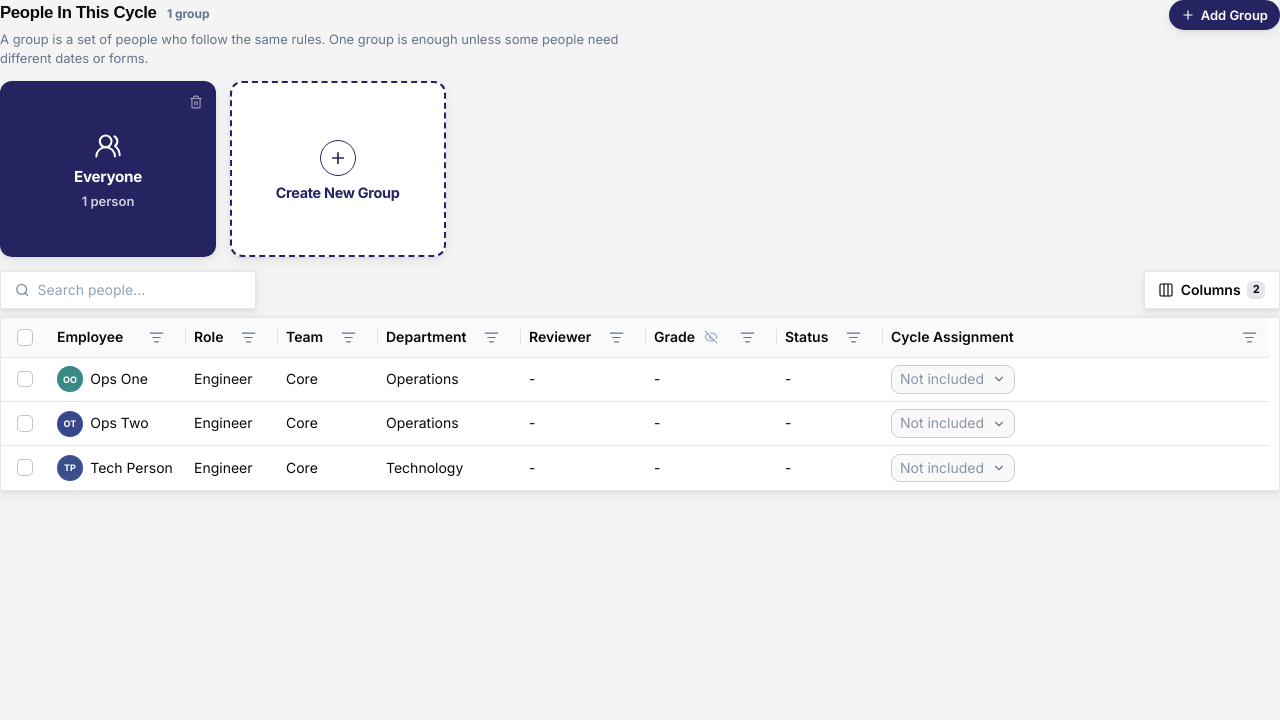
Test: CycleGroupsSection › bulk assigns the filtered people to a cycle group
Click the button named "Filter Department": coordinates (491, 337) [479, 325, 503, 349]
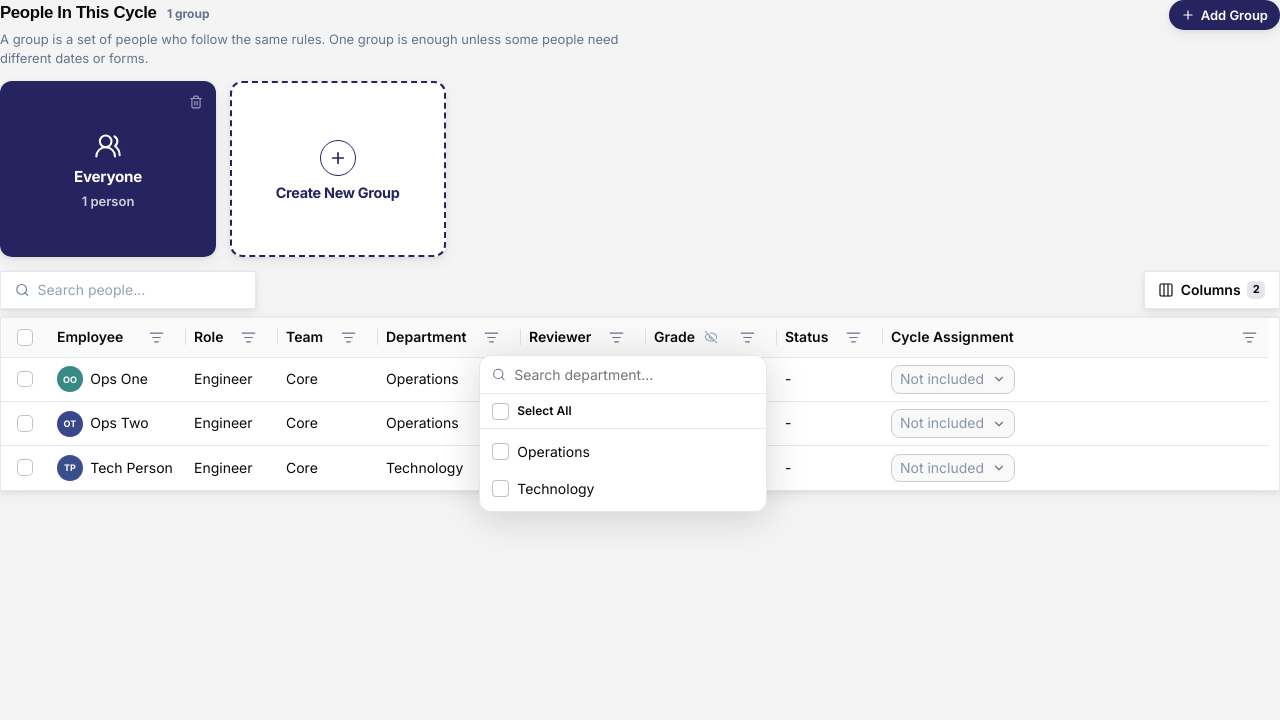
Click the option "Operations": coordinates (554, 452) [480, 433, 766, 470]
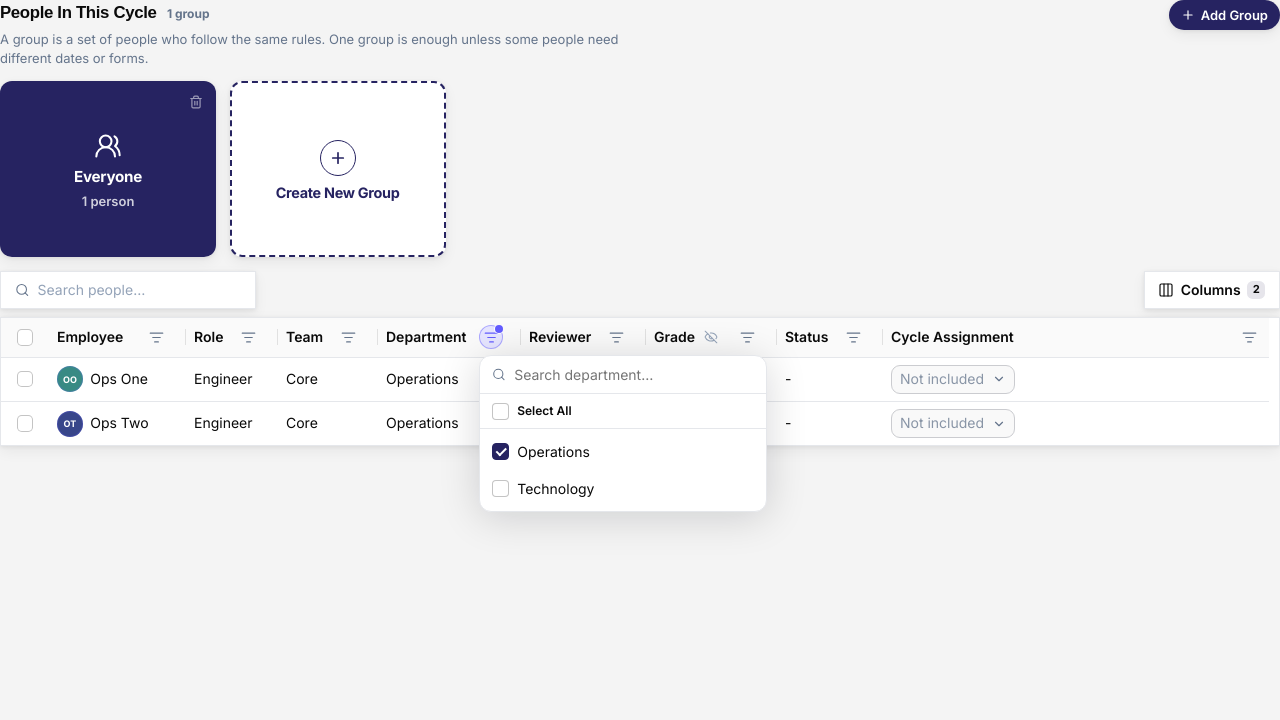
Click the checkbox named "Select all visible people": coordinates (25, 337) [17, 329, 33, 346]
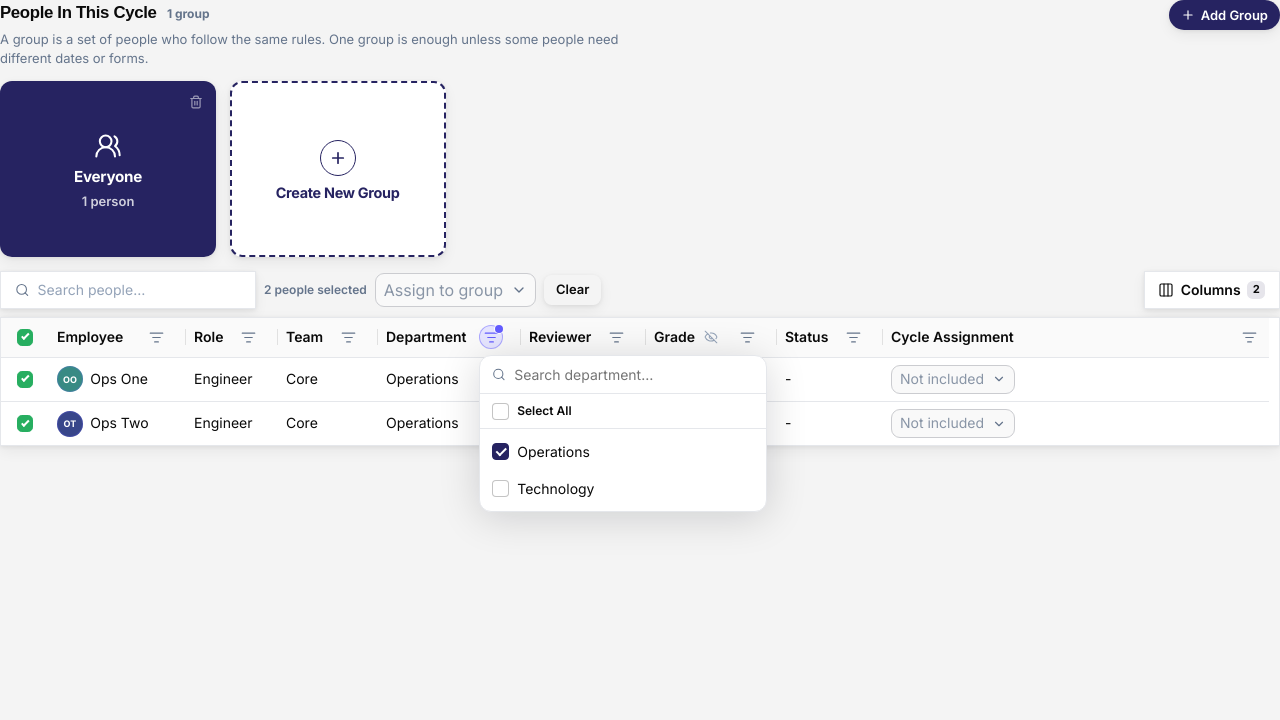
Now the text "2 people selected" is shown, box [264, 281, 367, 299]
Click the button with aria-label "Assign selected people to a cycle group": coordinates (455, 290) [375, 273, 536, 307]
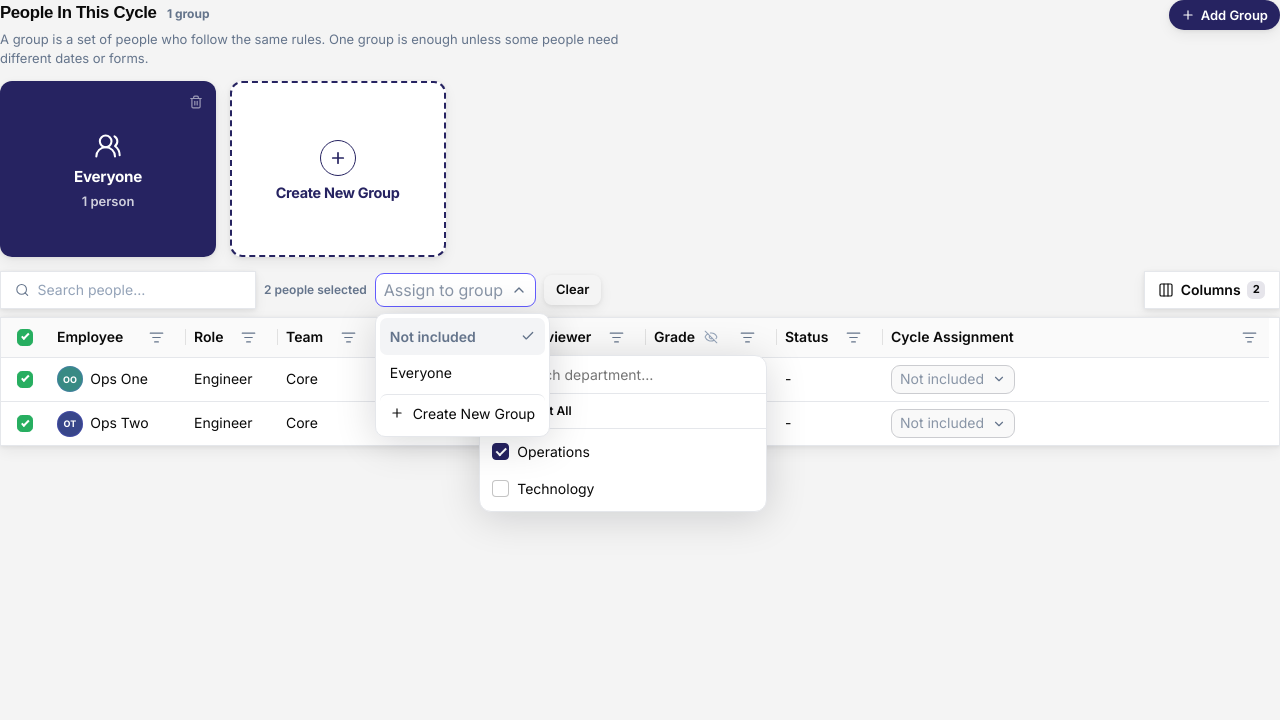
Click the option "Everyone": coordinates (462, 373) [380, 355, 545, 391]
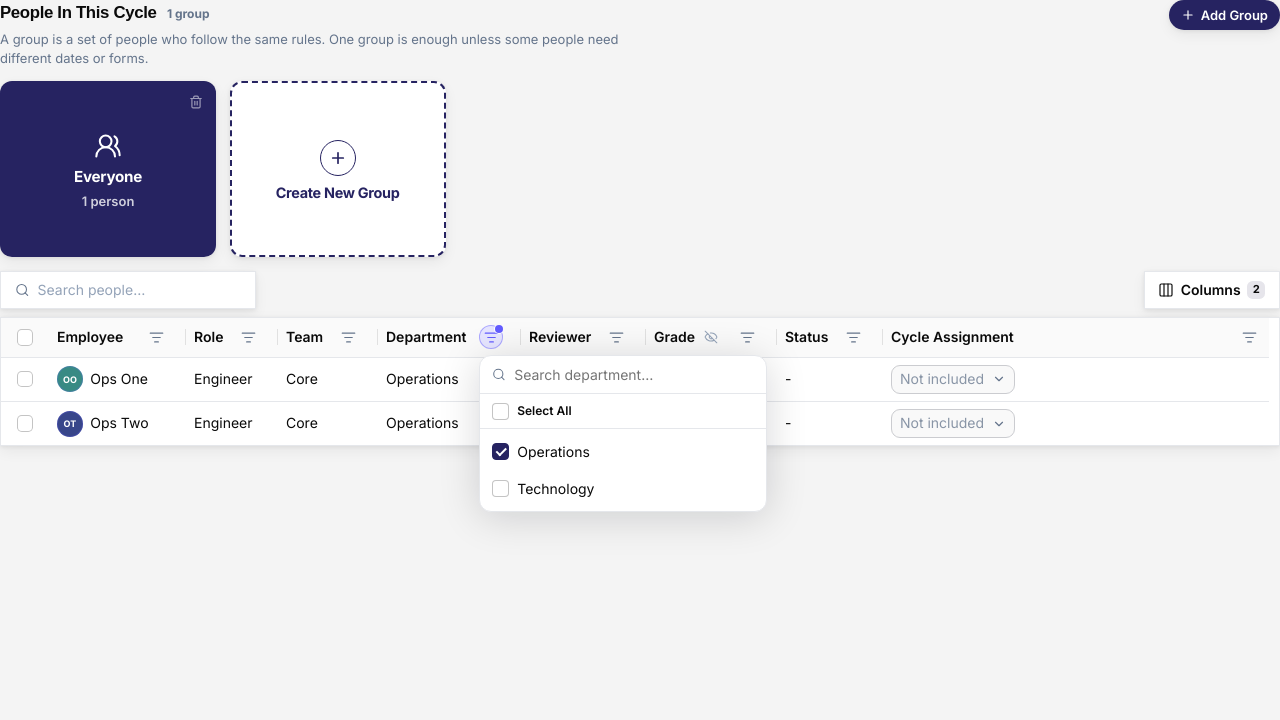
Now the text "2 people selected" is gone
